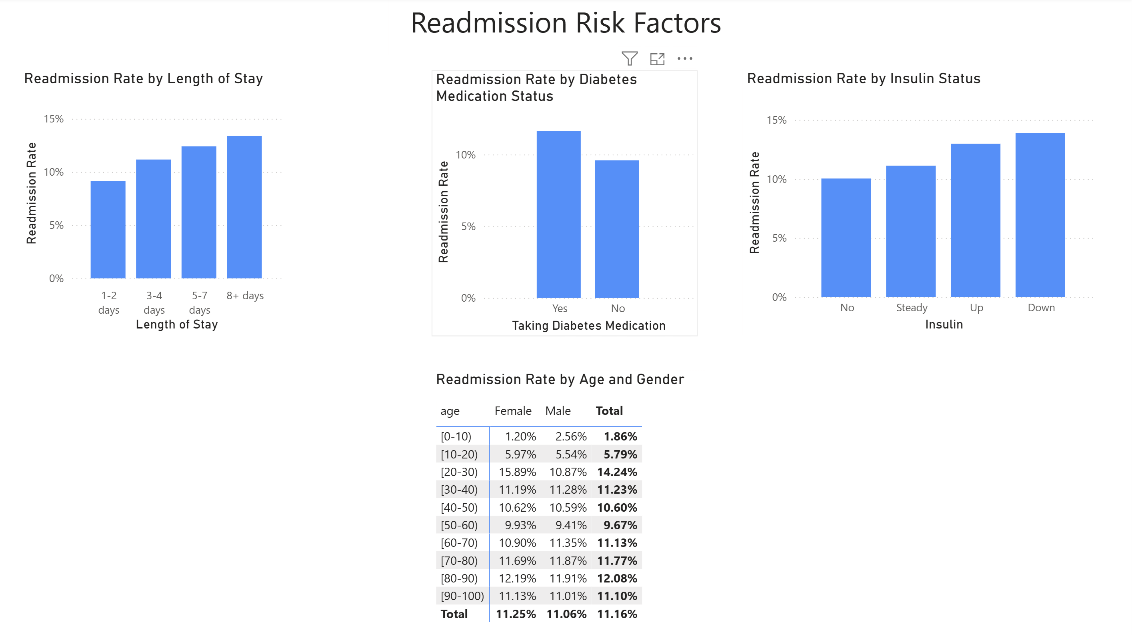

This screenshot's page, from the dashboard's own definition file:
{"tool":"powerbi","page":{"name":"Page 2","canvas":[1280,720],"ordinal":1},"visuals":[{"type":"textbox","box":[440.2,0,399.9,64.8],"z":0},{"type":"clusteredColumnChart","title":"Readmission Rate by Length of Stay","fields":{"Category":["FactEncounters.Length of Stay Group"],"Y":["FactEncounters.Readmission Rate"]},"box":[24.5,80.7,300,300],"z":1000},{"type":"clusteredColumnChart","title":"Readmission Rate by Diabetes Medication Status","fields":{"Category":["FactEncounters.diabetesMed"],"Y":["FactEncounters.Readmission Rate"]},"box":[489.1,81.9,300,300],"z":2000},{"type":"clusteredColumnChart","title":"Readmission Rate by Insulin Status","fields":{"Category":["FactEncounters.insulin"],"Y":["FactEncounters.Readmission Rate"]},"box":[840.1,80.7,400,300],"z":3000},{"type":"pivotTable","title":"Readmission Rate by Age and Gender","fields":{"Rows":["FactEncounters.age"],"Columns":["FactEncounters.gender"],"Values":["FactEncounters.Readmission Rate"]},"box":[489.1,420.7,309.4,299.6],"z":3001}]}

Visuals, with their boxes in screenshot pixels (x1, y1, x2, y2), scaled from the page's 1280x720 canvas onto the 1132x636 screenshot:
textbox: locate(389, 0, 743, 57)
"Readmission Rate by Length of Stay" clusteredColumnChart: locate(22, 71, 287, 336)
"Readmission Rate by Diabetes Medication Status" clusteredColumnChart: locate(433, 72, 698, 337)
"Readmission Rate by Insulin Status" clusteredColumnChart: locate(743, 71, 1097, 336)
"Readmission Rate by Age and Gender" pivotTable: locate(433, 372, 706, 635)
